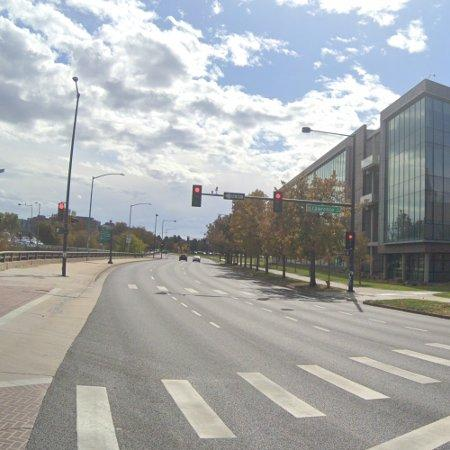crosswalks: (73, 340, 450, 450)
